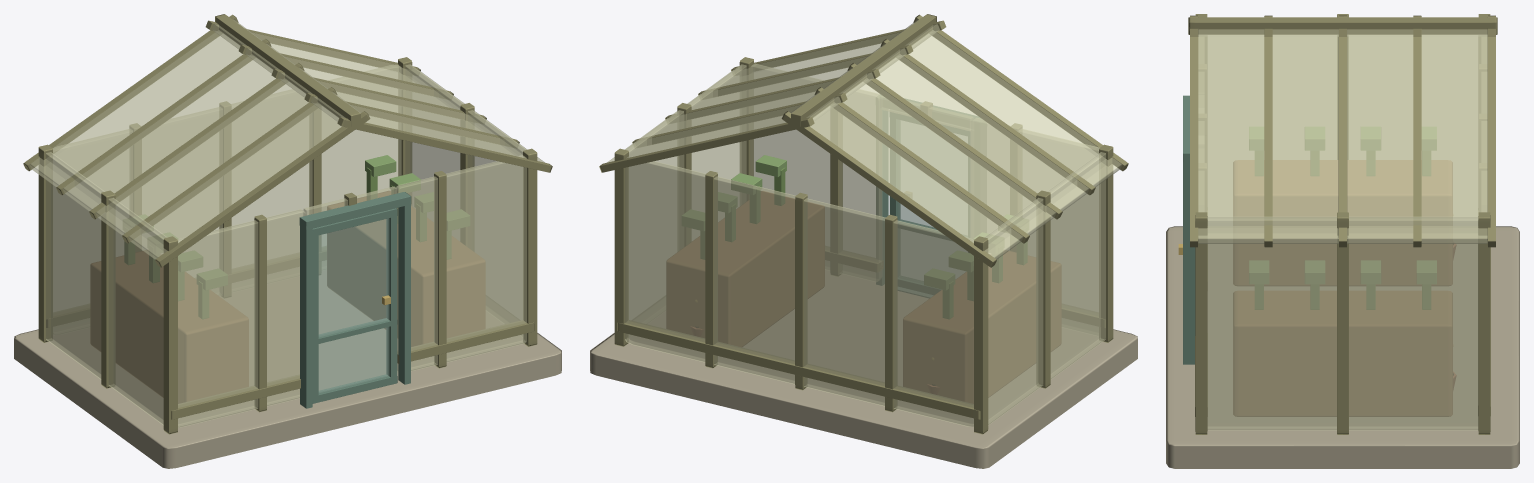
Rendered from greenhouse-3.glb.
3 views of the same model, side by side, from view 1: azimuth 30°, elevation 25°; view 2: azimuth 150°, elevation 25°; view 3: azimuth 270°, elevation 25° (orthographic). The views are drawn at different scales.
Parts seen in each view (by area): view 1: greenhouse-3-0, door-hinge, vegetable-crops; view 2: greenhouse-3-0, door-hinge, vegetable-crops; view 3: greenhouse-3-0, vegetable-crops.
Part boxes in pixels (x1,y1,x2,y2): greenhouse-3-0: (14, 14, 561, 468); door-hinge: (312, 208, 397, 403); vegetable-crops: (124, 155, 469, 319); greenhouse-3-0: (590, 14, 1137, 468); door-hinge: (889, 112, 970, 294); vegetable-crops: (682, 155, 1027, 319); greenhouse-3-0: (1166, 14, 1519, 468); vegetable-crops: (1249, 127, 1436, 309).
Size of the model in its own units: 2.8 by 2.01 by 1.9.
